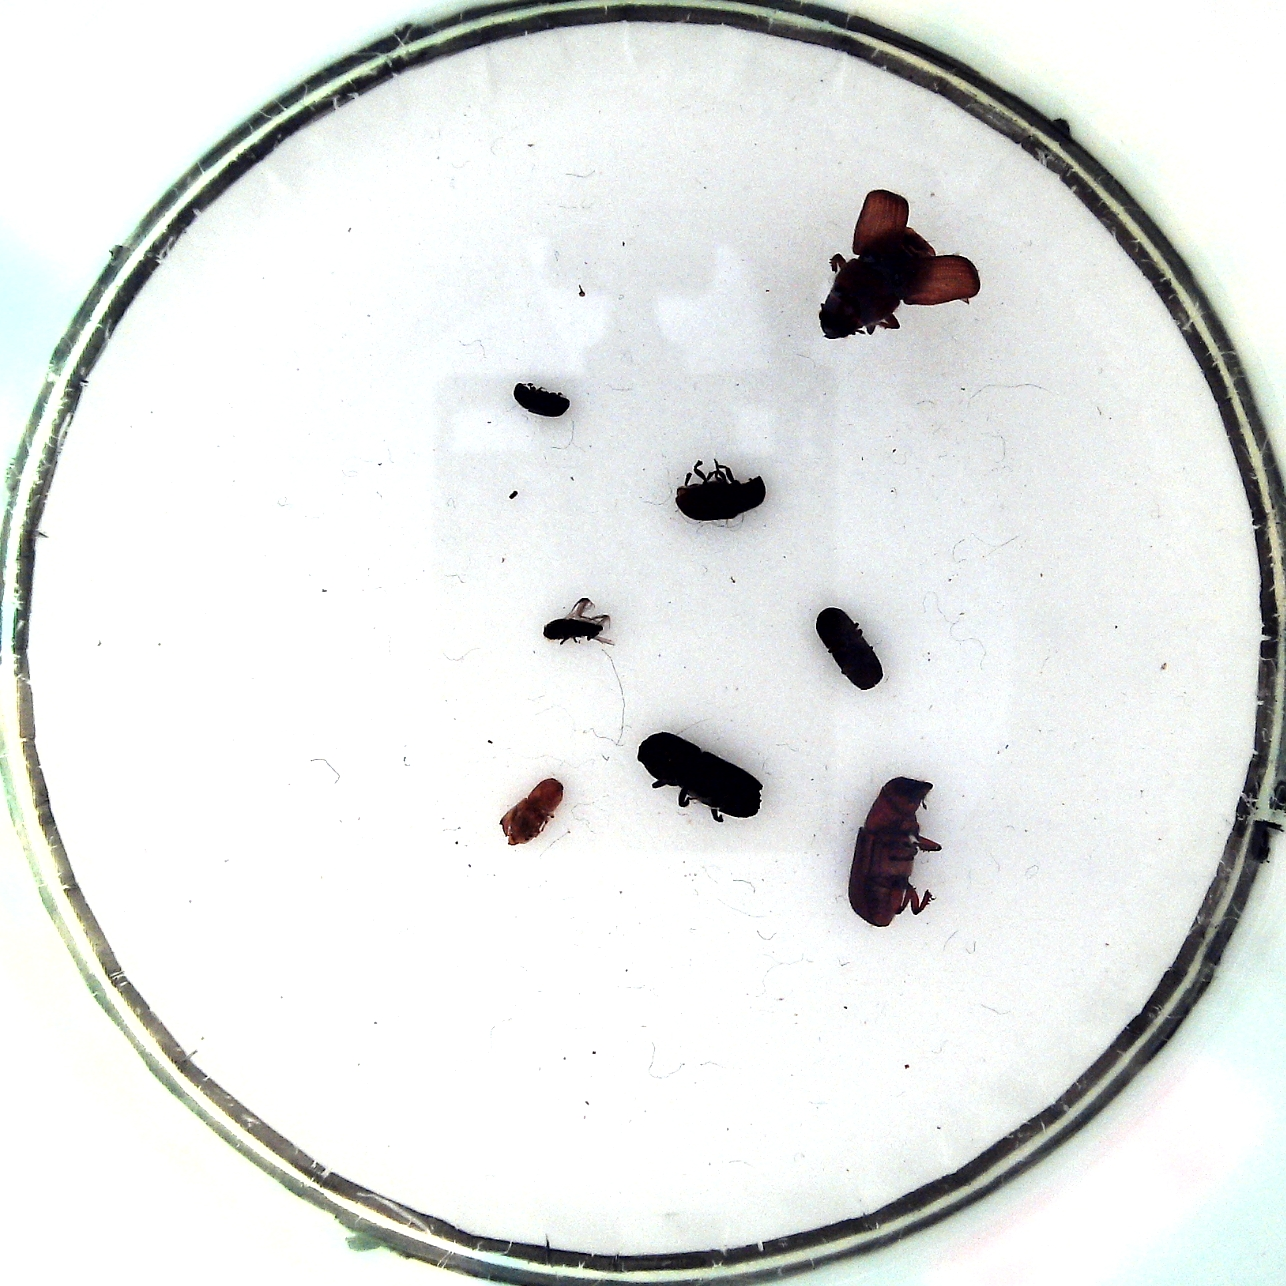Boerner: (637, 731, 763, 818)
Leconte: (847, 777, 936, 927), (818, 228, 936, 339)
acuminatus: (543, 618, 604, 643)
armandi: (675, 473, 765, 521)
coleoptera: (501, 777, 564, 846), (513, 382, 571, 419)
linnaeus: (816, 606, 883, 691)
